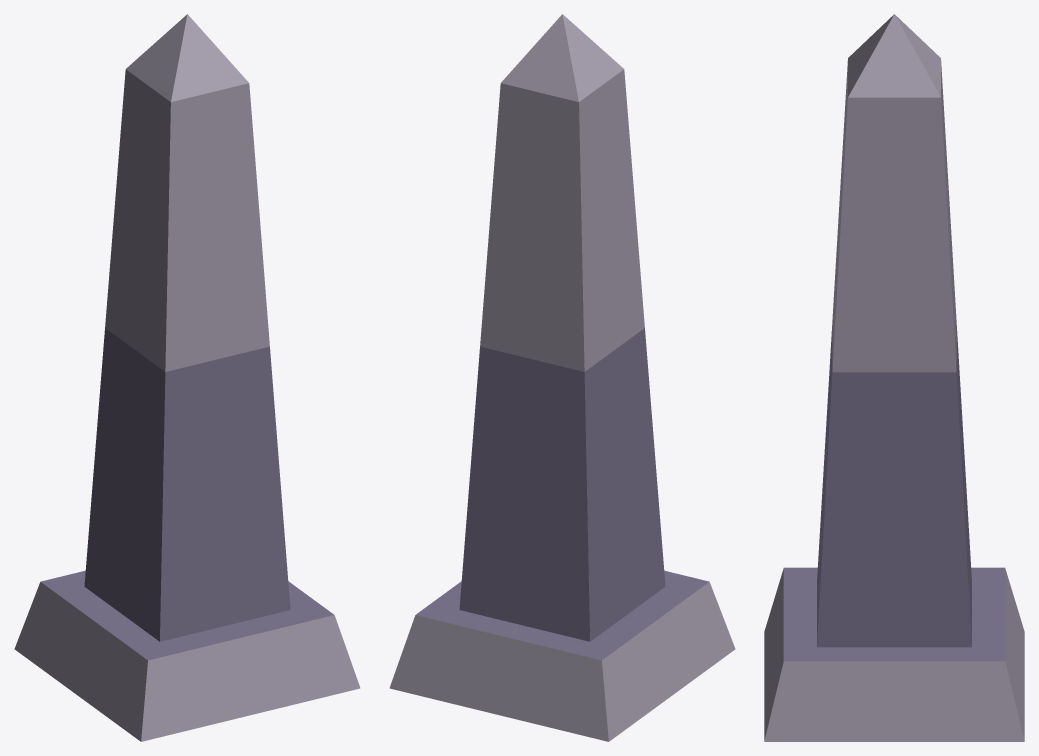
File: statue_obelisk.glb
3 views of the same model, side by side, from view 1: azimuth 30°, elevation 25°; view 2: azimuth 150°, elevation 25°; view 3: azimuth 270°, elevation 25° (orthographic). The views are drawn at different scales.
Visible parts, largest first — view 1: statue_obelisk; view 2: statue_obelisk; view 3: statue_obelisk.
Boxes of the visible parts, x1,y1,x2,y2 form: statue_obelisk: [14, 14, 360, 741]; statue_obelisk: [389, 14, 735, 741]; statue_obelisk: [764, 14, 1024, 741].
Size of the model in its own units: 0.5833 by 1.66 by 0.5833.
